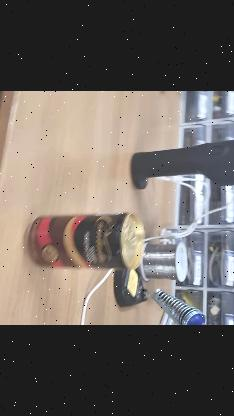Can: (27, 213, 141, 267)
